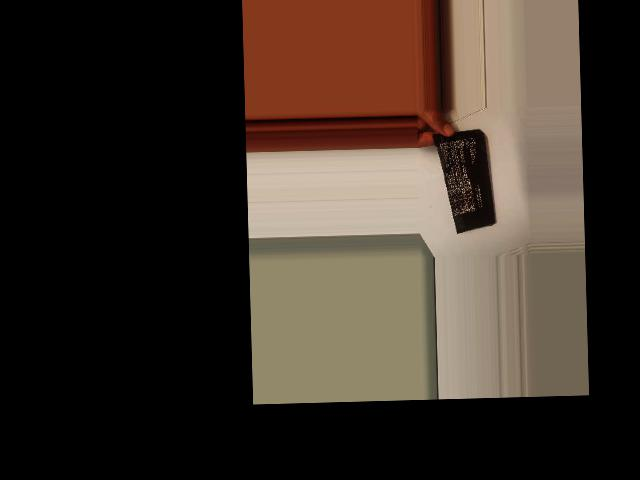chocolate: (428, 128, 497, 236)
